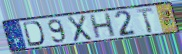2: (113, 10, 138, 38)
9: (47, 19, 67, 44)
D: (21, 20, 46, 48)
H: (88, 11, 118, 40)
T: (135, 7, 155, 34)
X: (66, 14, 94, 43)
